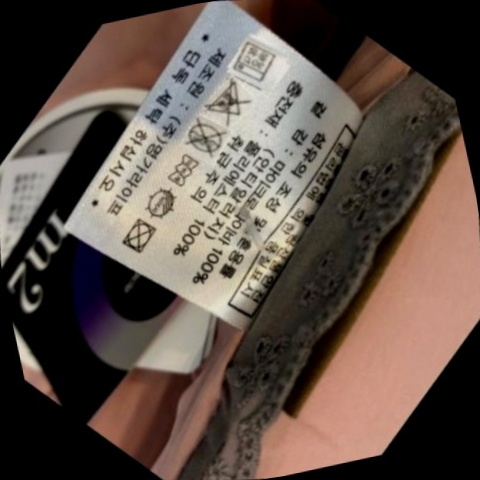30C: (223, 32, 288, 92)
DN_dry_clean: (177, 111, 239, 165)
DN_tumble_dry: (117, 212, 164, 259)
dry_flat_in_shade: (133, 175, 189, 225)
non_chlorine_bleach: (199, 75, 260, 131)
wring: (158, 145, 212, 198)
